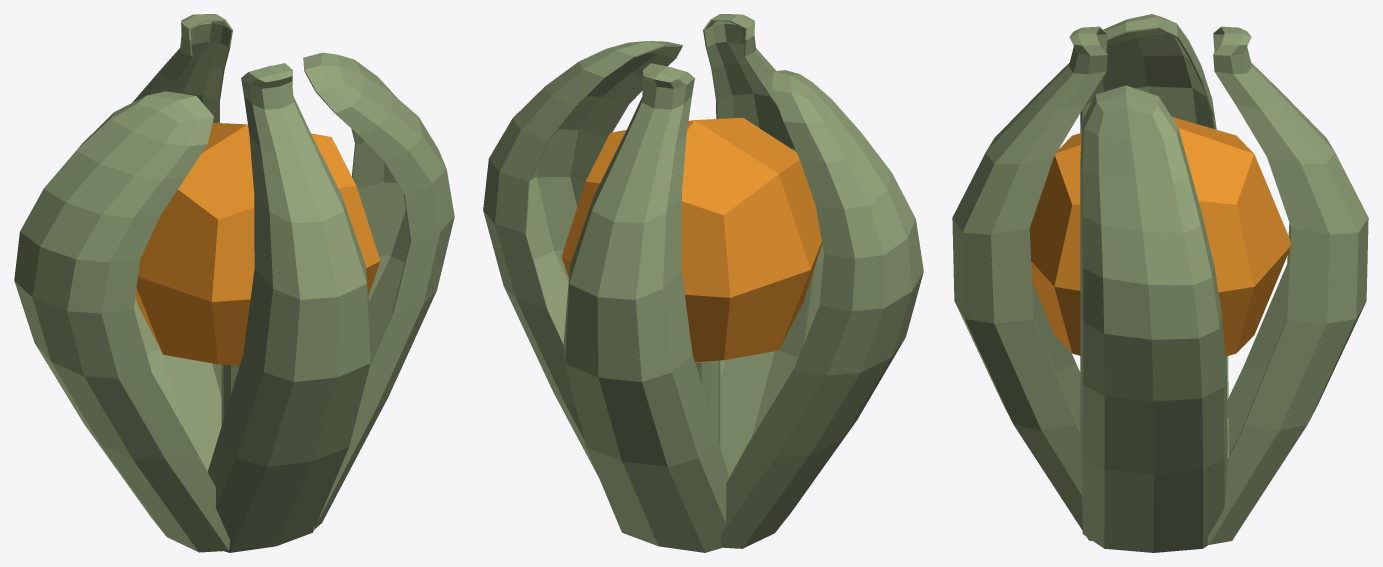
The model's file is Lollypop Plant.fbx.
3 views of the same model, side by side, from view 1: azimuth 30°, elevation 25°; view 2: azimuth 150°, elevation 25°; view 3: azimuth 270°, elevation 25° (orthographic). The views are drawn at different scales.
Parts seen in each view (by area): view 1: Cube.002, Cube.001, Cube.003, Cube, Cube.004, Cylinder; view 2: Cube.004, Cube.001, Cube, Cube.003, Cube.002, Cylinder; view 3: Cube.003, Cube.004, Cube.002, Cube, Cube.001.
Boxes of the visible parts, box(x1,y1,x2,y2) form: Cube.002: box(207, 63, 372, 552); Cube.001: box(14, 91, 230, 552); Cube.003: box(303, 52, 454, 530); Cube: box(135, 122, 380, 365); Cube.004: box(132, 14, 232, 471); Cylinder: box(221, 364, 239, 425); Cube.004: box(563, 63, 729, 552); Cube.001: box(721, 70, 923, 548); Cube: box(561, 117, 822, 362); Cube.003: box(483, 41, 682, 476); Cube.002: box(703, 14, 823, 476); Cylinder: box(695, 360, 720, 446); Cube.003: box(1080, 85, 1227, 552); Cube.004: box(1207, 26, 1368, 544); Cube.002: box(952, 26, 1107, 540); Cube: box(1029, 117, 1290, 356); Cube.001: box(1080, 14, 1228, 459).
Bounding box in the file's own units: 297 × 327 × 254.
